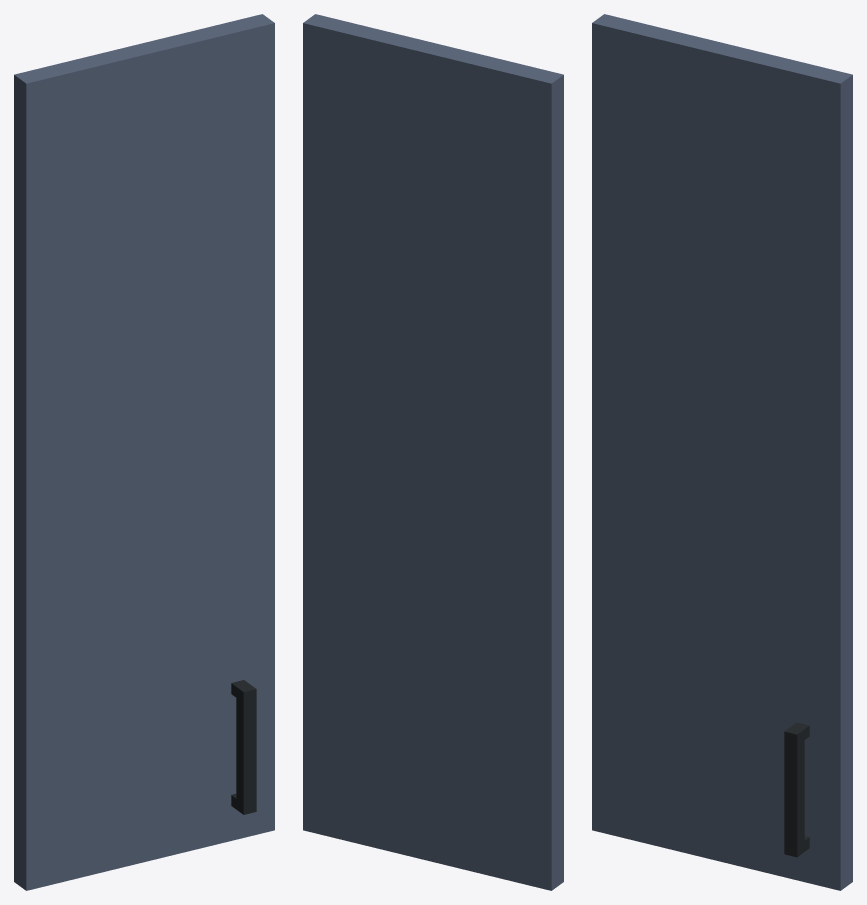
Rendered from Door1_C4_14.fbx.
3 renders of one model, left to right at view 1: azimuth 30°, elevation 25°; view 2: azimuth 150°, elevation 25°; view 3: azimuth 330°, elevation 25°, orthographic.
Parts seen in each view (by area): view 1: Door1_C4_14; view 2: Door1_C4_14; view 3: Door1_C4_14.
Part boxes in pixels (x1,y1,x2,y2): Door1_C4_14: (14, 14, 274, 890); Door1_C4_14: (303, 14, 563, 890); Door1_C4_14: (592, 14, 852, 890).
Size of the model in its own units: 29 by 90 by 5.03.
